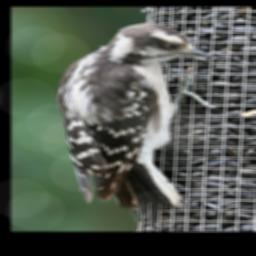Woodpecker: (57, 22, 219, 216)
